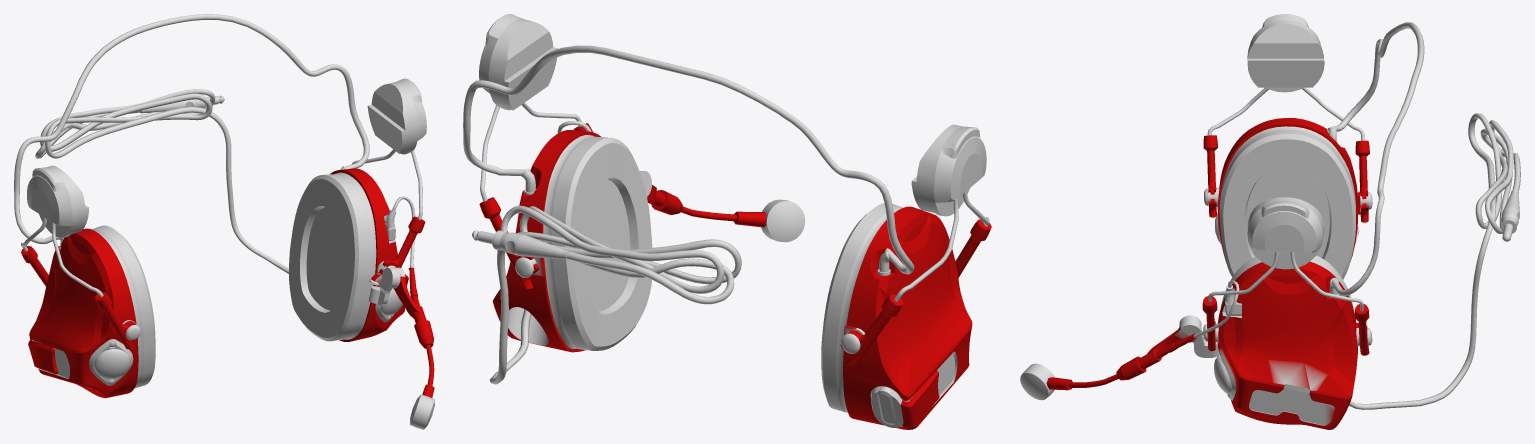
File: EarPro_Peltor_ComTac.fbx
3 views of the same model, side by side, from view 1: azimuth 30°, elevation 25°; view 2: azimuth 150°, elevation 25°; view 3: azimuth 270°, elevation 25° (orthographic). The views are drawn at different scales.
Visible parts, largest first — view 1: EarPro_Peltor_ComTac_VII_WM; view 2: EarPro_Peltor_ComTac_VII_WM; view 3: EarPro_Peltor_ComTac_VII_WM.
Boxes of the visible parts, box(x1,y1,x2,y2) form: EarPro_Peltor_ComTac_VII_WM: box(14, 14, 434, 429); EarPro_Peltor_ComTac_VII_WM: box(463, 14, 991, 429); EarPro_Peltor_ComTac_VII_WM: box(1020, 14, 1520, 429).
Bounding box in the file's own units: 24.31 × 18.37 × 26.59.
